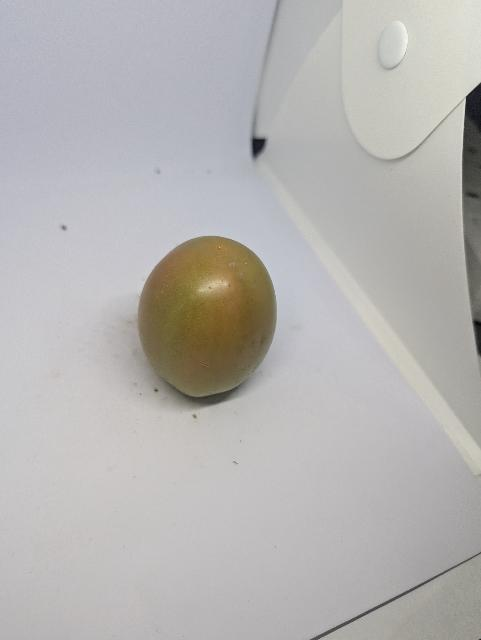turning: (135, 229, 283, 404)
